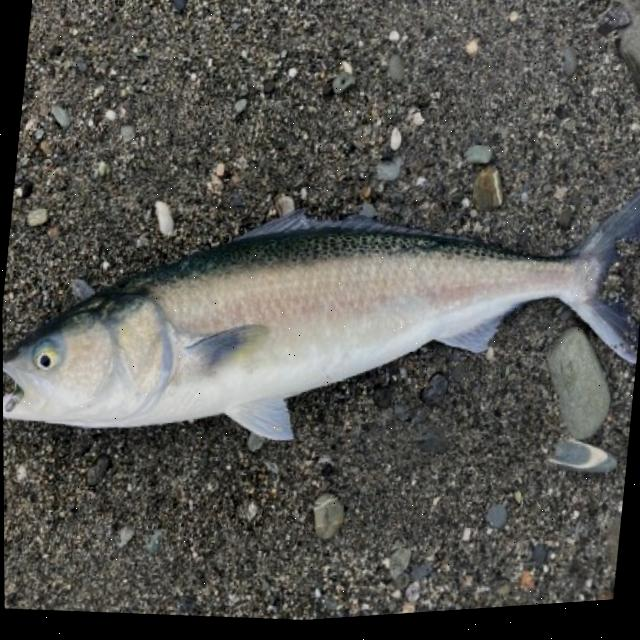Australian Salmon: (1, 105, 640, 540)
